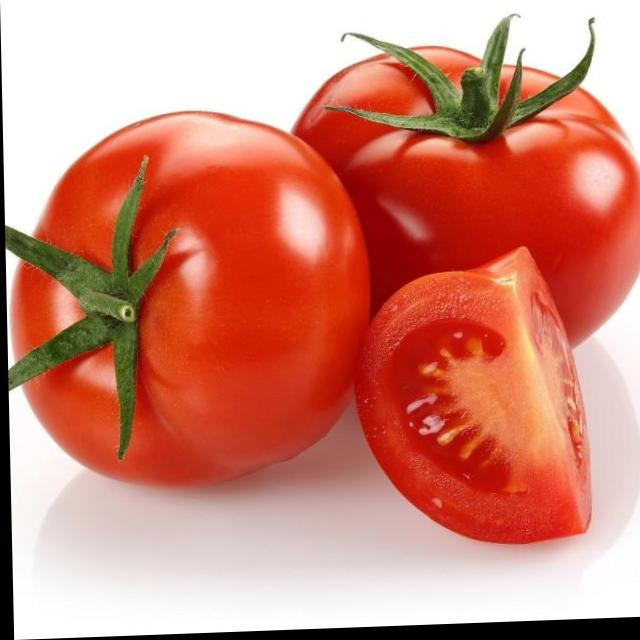kirmizi: (7, 42, 640, 498)
